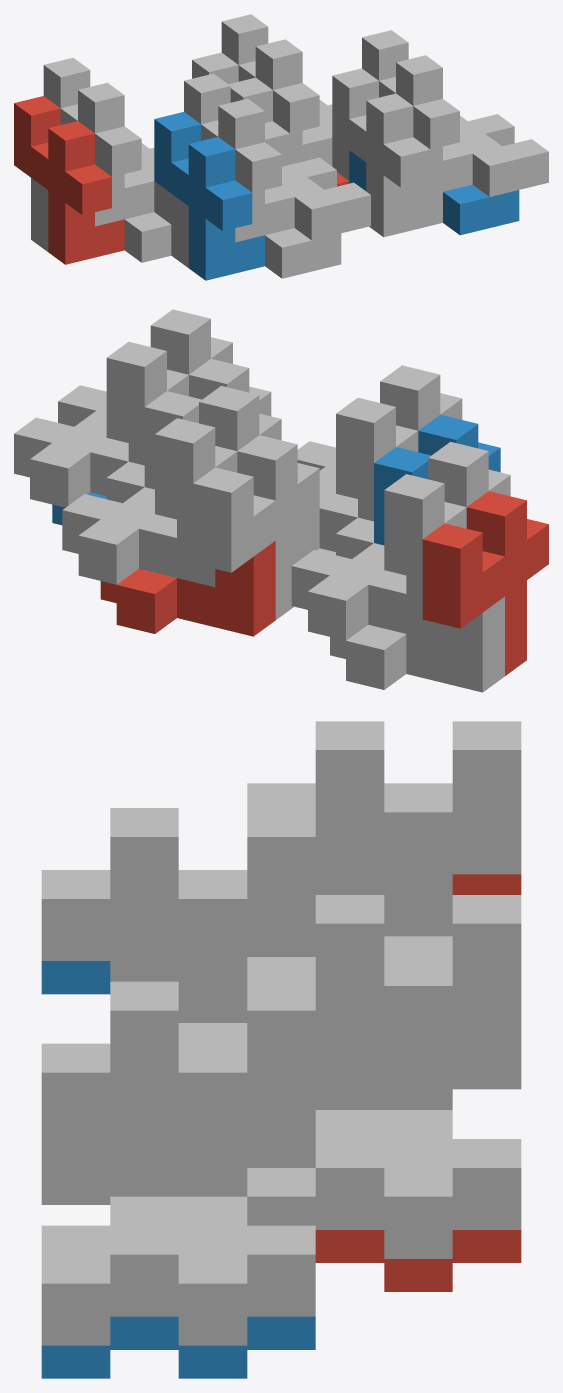
The model's file is tiling.obj.
3 renders of one model, top to bottom at view 1: azimuth 30°, elevation 25°; view 2: azimuth 150°, elevation 25°; view 3: azimuth 270°, elevation 25°, orthographic. The views are drawn at different scales.
Visible parts, largest first — view 1: copy_1_domain_2, copy_1_domain_1, copy_1_domain_6, copy_1_domain_3, copy_1_domain_8, copy_1_domain_4, copy_1_domain_7, copy_2_domain_8, copy_2_domain_4, copy_2_domain_2, copy_2_domain_6, copy_2_domain_1 (+3 smaller); view 2: copy_1_domain_1, copy_1_domain_5, copy_2_domain_7, copy_2_domain_3, copy_2_domain_5, copy_2_domain_1, copy_2_domain_8, copy_1_domain_7, copy_1_domain_8, copy_1_domain_3, copy_1_domain_4, copy_1_domain_6 (+2 smaller); view 3: copy_1_domain_8, copy_2_domain_8, copy_1_domain_7, copy_1_domain_4, copy_2_domain_7, copy_1_domain_3, copy_2_domain_6, copy_2_domain_5, copy_2_domain_4, copy_2_domain_3, copy_1_domain_6, copy_1_domain_2 (+3 smaller).
Boxes of the visible parts, <box> form: copy_1_domain_2: <box>154,112,264,280</box>; copy_1_domain_1: <box>14,96,124,264</box>; copy_1_domain_6: <box>332,68,442,237</box>; copy_1_domain_3: <box>43,57,154,226</box>; copy_1_domain_8: <box>362,30,472,198</box>; copy_1_domain_4: <box>184,73,294,242</box>; copy_1_domain_7: <box>221,14,332,166</box>; copy_2_domain_8: <box>458,114,548,196</box>; copy_2_domain_4: <box>280,157,370,240</box>; copy_2_domain_2: <box>171,194,341,278</box>; copy_2_domain_6: <box>349,150,519,235</box>; copy_2_domain_1: <box>31,178,171,262</box>; copy_1_domain_1: <box>422,491,548,675</box>; copy_1_domain_5: <box>193,435,319,619</box>; copy_2_domain_7: <box>62,461,215,587</box>; copy_2_domain_3: <box>291,517,444,643</box>; copy_2_domain_5: <box>100,541,275,636</box>; copy_2_domain_1: <box>330,596,504,692</box>; copy_2_domain_8: <box>14,385,144,507</box>; copy_1_domain_7: <box>155,386,281,523</box>; copy_1_domain_8: <box>106,309,232,446</box>; copy_1_domain_3: <box>384,441,510,579</box>; copy_1_domain_4: <box>336,365,462,502</box>; copy_1_domain_6: <box>144,358,271,489</box>; copy_1_domain_8: <box>41,981,315,1225</box>; copy_2_domain_8: <box>41,1134,315,1345</box>; copy_1_domain_7: <box>247,895,521,1138</box>; copy_1_domain_4: <box>41,808,315,981</box>; copy_2_domain_7: <box>247,1048,521,1258</box>; copy_1_domain_3: <box>247,721,521,894</box>; copy_2_domain_6: <box>41,1316,315,1378</box>; copy_2_domain_5: <box>315,1230,521,1291</box>; copy_2_domain_4: <box>41,961,247,1171</box>; copy_2_domain_3: <box>384,874,452,956</box>; copy_1_domain_6: <box>41,1134,315,1167</box>; copy_1_domain_2: <box>41,961,110,994</box>.
Size of the model in its own units: 14 by 5 by 7.
